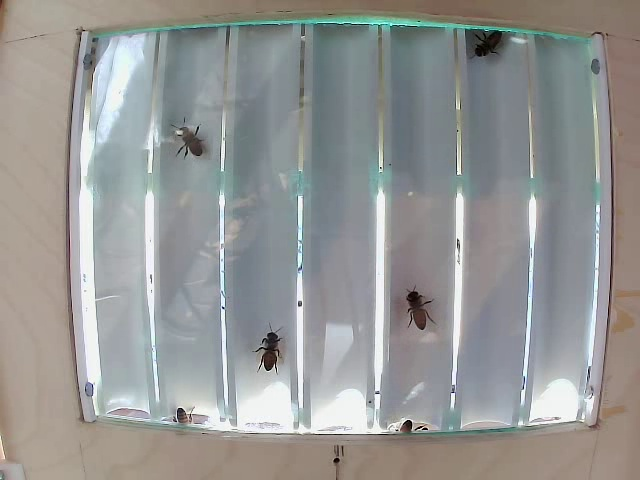bee: (253, 326, 287, 382), (397, 280, 431, 334), (168, 108, 198, 167)
